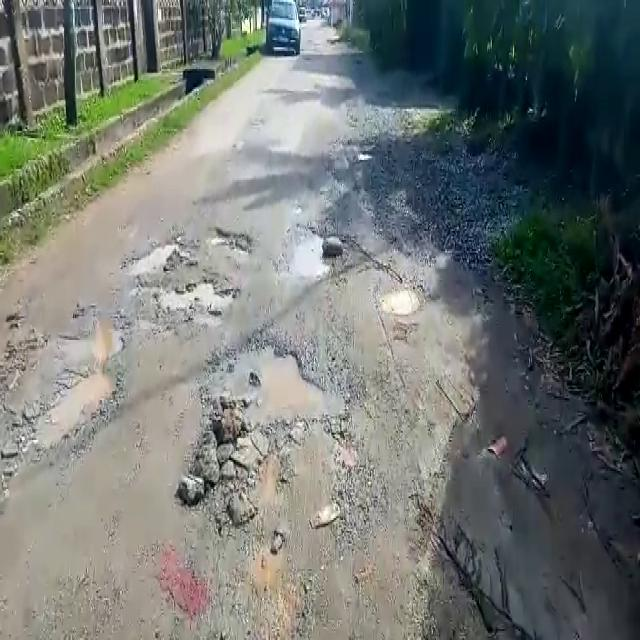Pothole: (186, 336, 350, 437), (22, 328, 126, 460), (159, 272, 241, 315), (125, 239, 186, 278), (288, 226, 328, 276), (375, 280, 424, 316), (209, 226, 256, 257)
